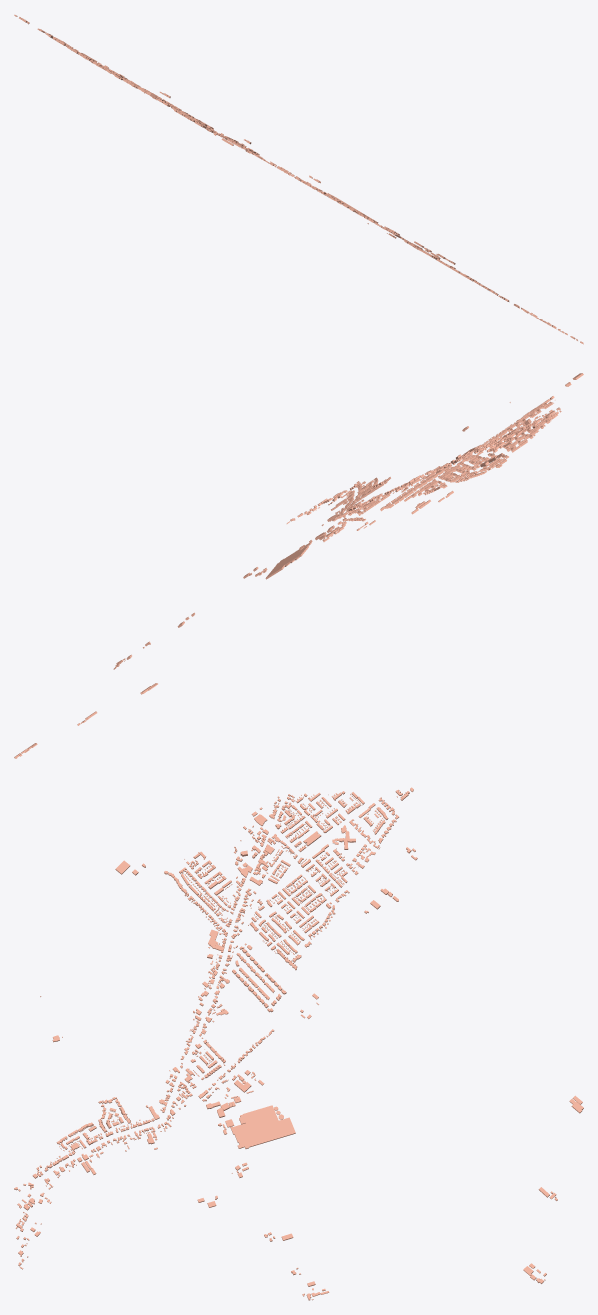
The picture shows the model from 3 angles, top to bottom: view 1: azimuth 30°, elevation 25°; view 2: azimuth 150°, elevation 25°; view 3: azimuth 270°, elevation 25°; orthographic projection. The views are drawn at different scales.
Size of the model in its own units: 1931 by 1456 by 2368.
